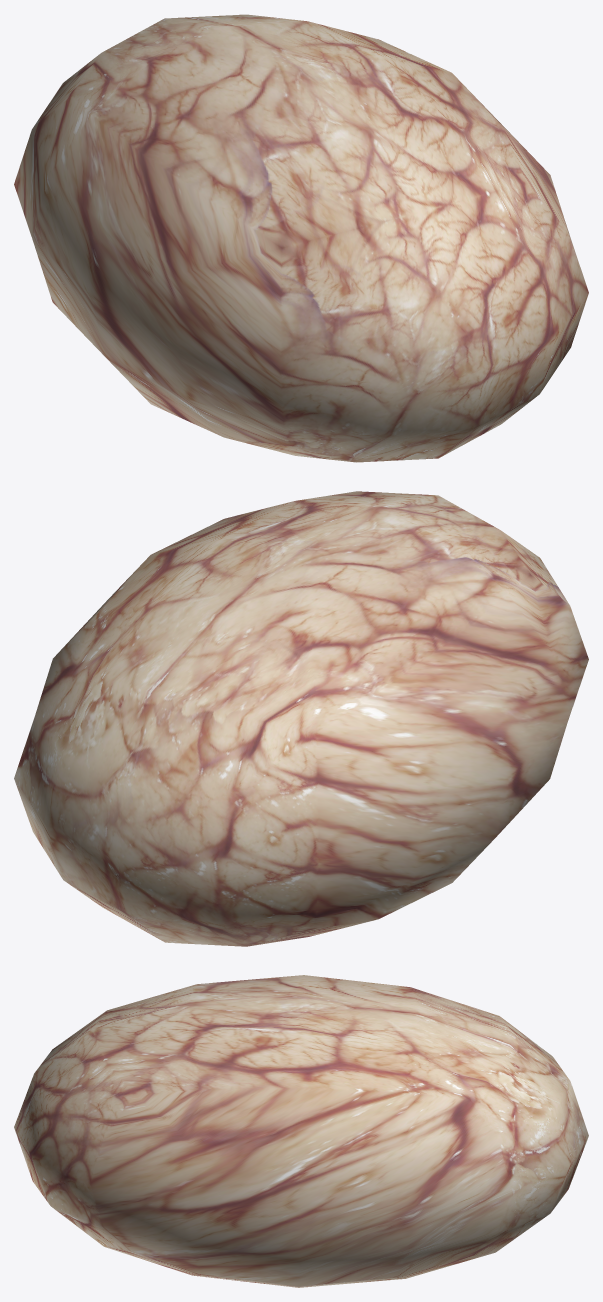
File: 男性_内分泌系统_下丘脑.fbx
The picture shows the model from 3 angles, top to bottom: view 1: azimuth 30°, elevation 25°; view 2: azimuth 150°, elevation 25°; view 3: azimuth 270°, elevation 25°; orthographic projection. The views are drawn at different scales.
Visible parts, largest first — view 1: 男性_内分泌系统_下丘脑; view 2: 男性_内分泌系统_下丘脑; view 3: 男性_内分泌系统_下丘脑.
Boxes of the visible parts, bbox=[...] form: 男性_内分泌系统_下丘脑: bbox=[14, 14, 588, 462]; 男性_内分泌系统_下丘脑: bbox=[14, 491, 588, 946]; 男性_内分泌系统_下丘脑: bbox=[14, 975, 588, 1287].
Size of the model in its own units: 1.01 by 0.7798 by 1.52.
